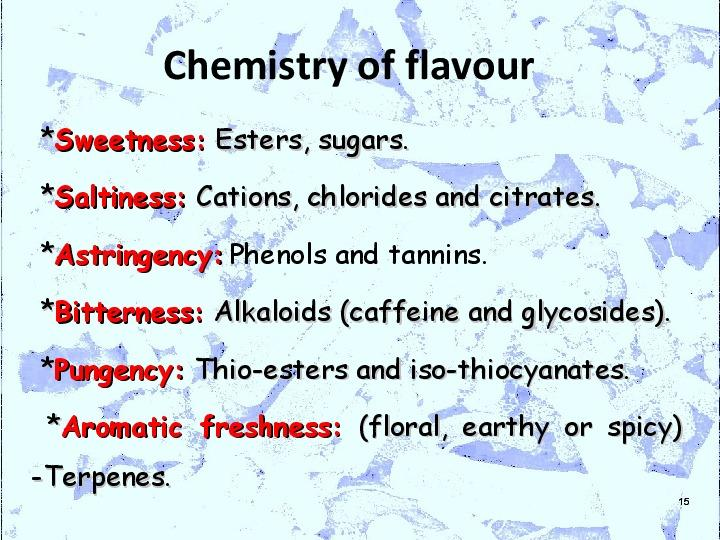paragraph: (36, 109, 702, 515)
title: (160, 31, 553, 105)
